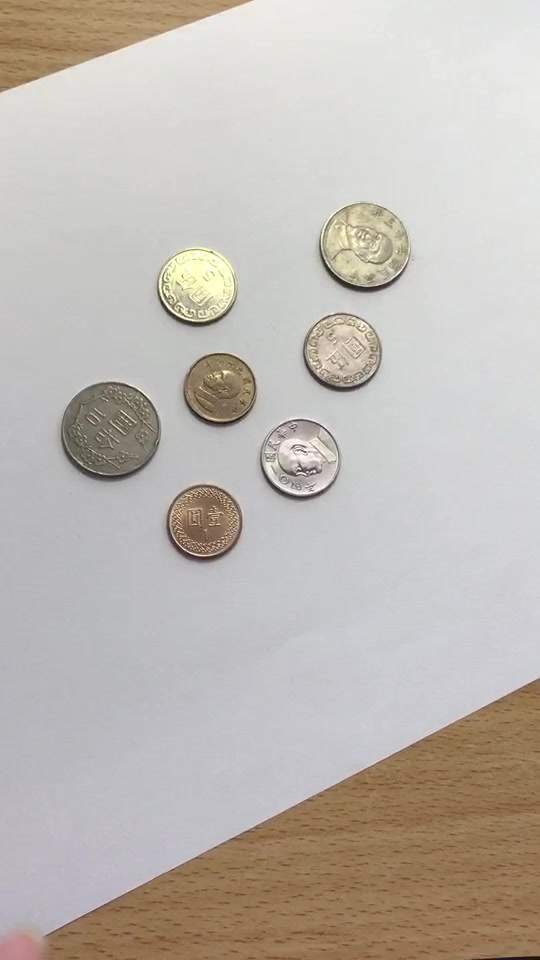1 dallar: (173, 343, 259, 430), (161, 476, 247, 563)
10 dallar: (53, 377, 171, 485), (305, 189, 423, 297)
5 dallar: (156, 238, 243, 326), (299, 305, 386, 393), (257, 413, 344, 501)
